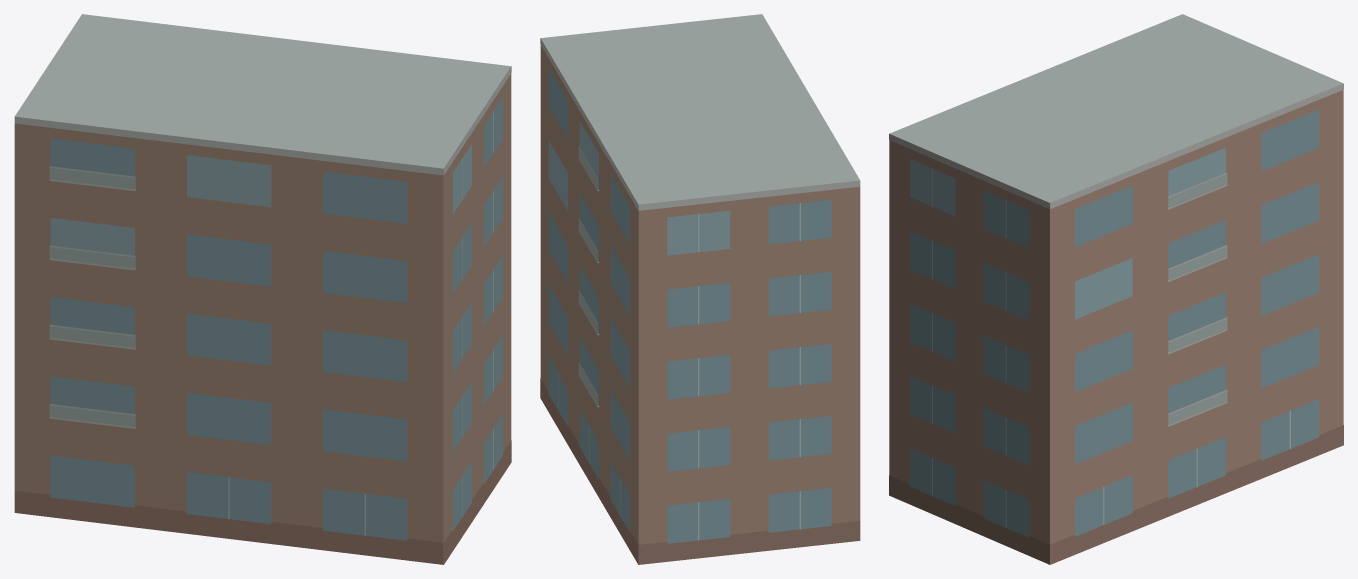
File: survey-upis-32885065.glb
3 views of the same model, side by side, from view 1: azimuth 30°, elevation 25°; view 2: azimuth 150°, elevation 25°; view 3: azimuth 270°, elevation 25° (orthographic). The views are drawn at different scales.
Visible parts, largest first — view 1: survey-upis-32885065.tmp; view 2: survey-upis-32885065.tmp; view 3: survey-upis-32885065.tmp.
Part boxes in pixels (x1,y1,x2,y2): survey-upis-32885065.tmp: [14, 14, 511, 564]; survey-upis-32885065.tmp: [540, 14, 860, 564]; survey-upis-32885065.tmp: [889, 14, 1343, 564].
Size of the model in its own units: 15.92 by 14.2 by 16.18.
